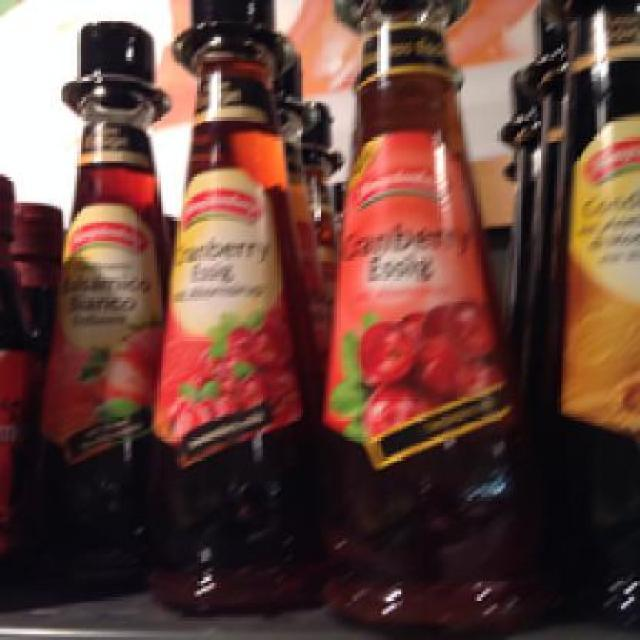Vinegar: (302, 0, 555, 626), (154, 0, 323, 612), (20, 19, 166, 595)
